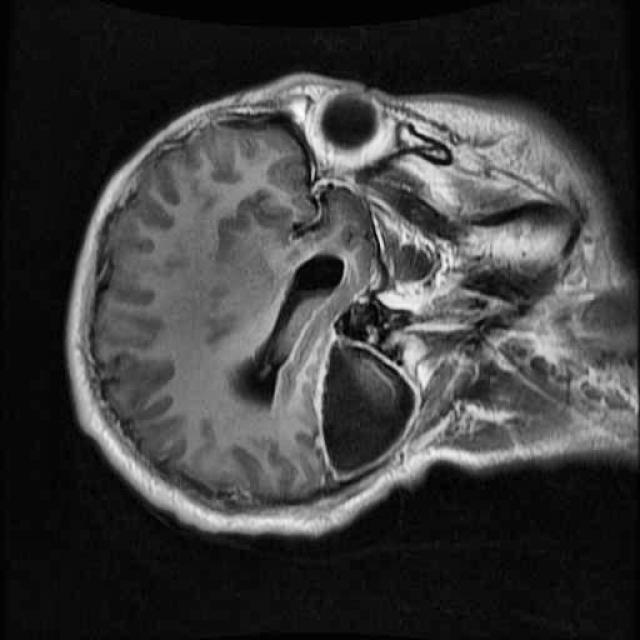Non-Tumor: (299, 314, 426, 495)
